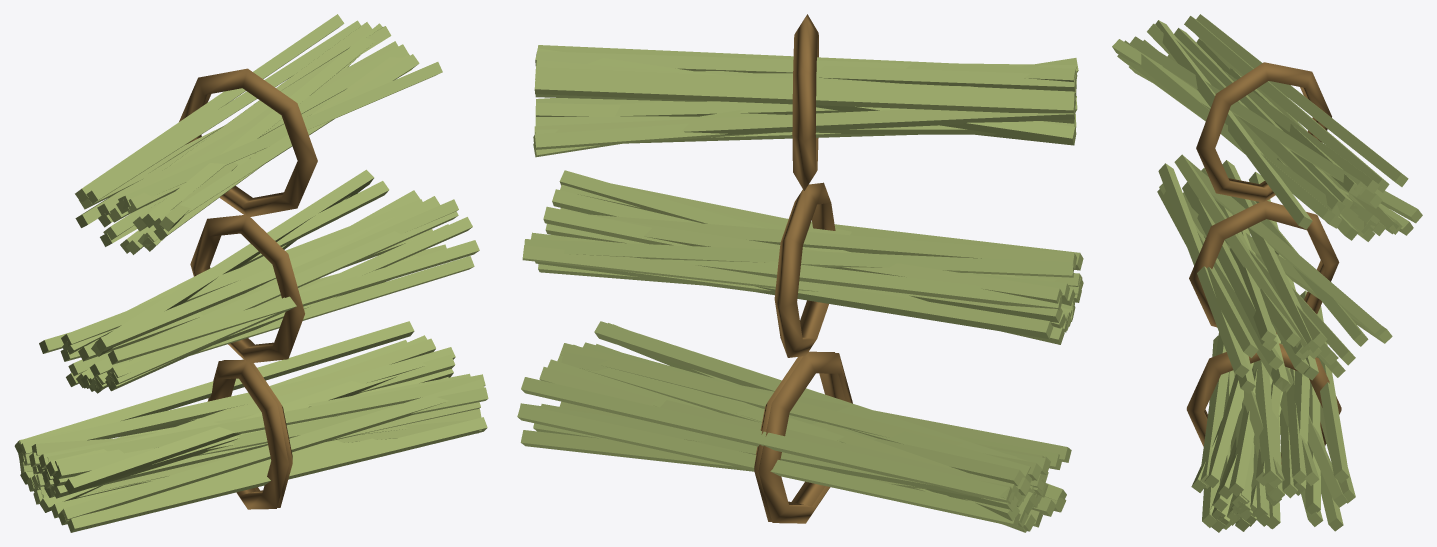
File: Fiber_Plant.fbx
3 views of the same model, side by side, from view 1: azimuth 30°, elevation 25°; view 2: azimuth 150°, elevation 25°; view 3: azimuth 270°, elevation 25° (orthographic). The views are drawn at different scales.
Parts seen in each view (by area): view 1: Fiber_Plant__Stack, Fiber_Plant; view 2: Fiber_Plant__Stack, Fiber_Plant; view 3: Fiber_Plant__Stack, Fiber_Plant.
Boxes of the visible parts, x1,y1,x2,y2 form: Fiber_Plant__Stack: (14,14,488,525); Fiber_Plant: (31,347,487,532); Fiber_Plant__Stack: (517,14,1083,531); Fiber_Plant: (520,321,1066,532); Fiber_Plant__Stack: (1112,14,1422,531); Fiber_Plant: (1186,334,1348,532).
Bounding box in the file's own units: 0.1673 × 0.1658 × 0.1122.
